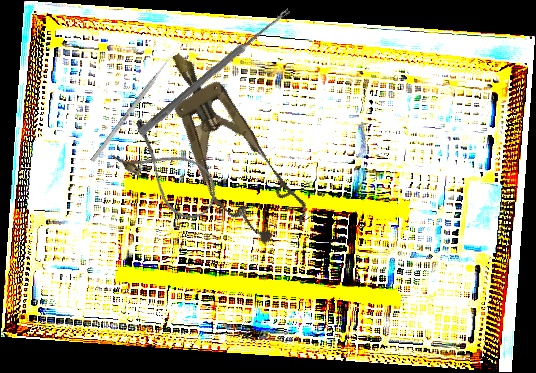Cannula: (107, 115, 228, 229)
Pusher: (90, 50, 177, 163)
Speculum: (141, 34, 315, 256)
Surgical Spoon: (137, 6, 292, 137)
